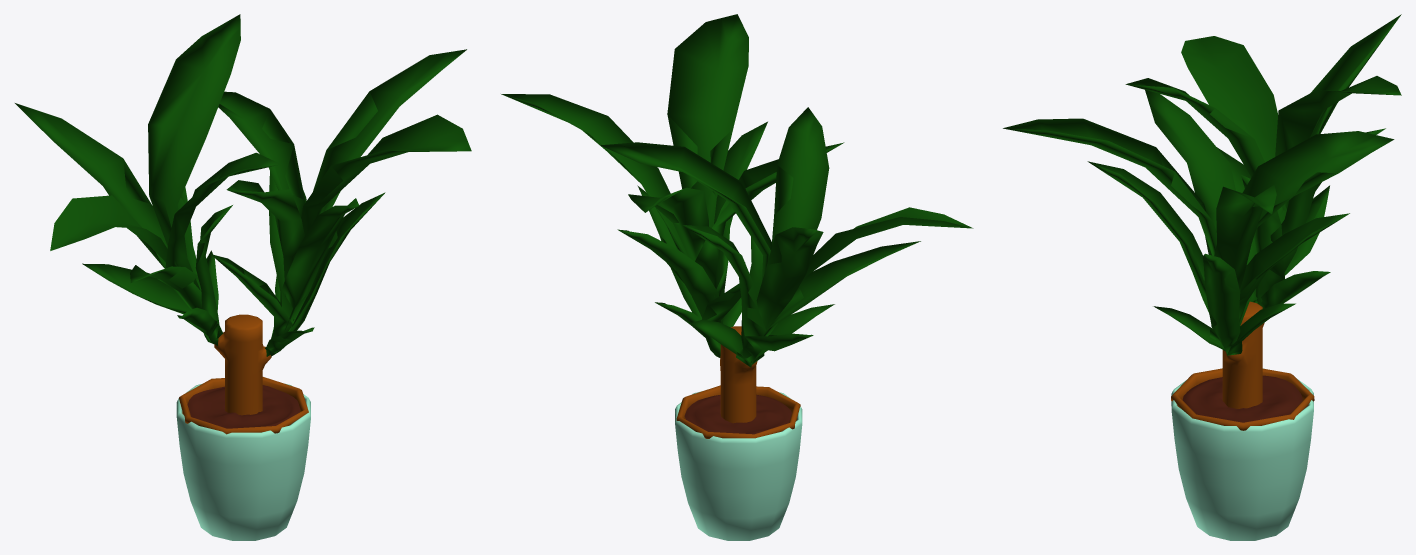
File: plant.glb
The picture shows the model from 3 angles, left to right: view 1: azimuth 30°, elevation 25°; view 2: azimuth 150°, elevation 25°; view 3: azimuth 270°, elevation 25°; orthographic projection. The views are drawn at different scales.
Visible parts, largest first — view 1: indoor plant_02; view 2: indoor plant_02; view 3: indoor plant_02.
Boxes of the visible parts, x1,y1,x2,y2 form: indoor plant_02: [15, 14, 471, 540]; indoor plant_02: [501, 14, 973, 540]; indoor plant_02: [1003, 14, 1401, 540].
Bounding box in the file's own units: 6.82 × 6.22 × 4.86.
